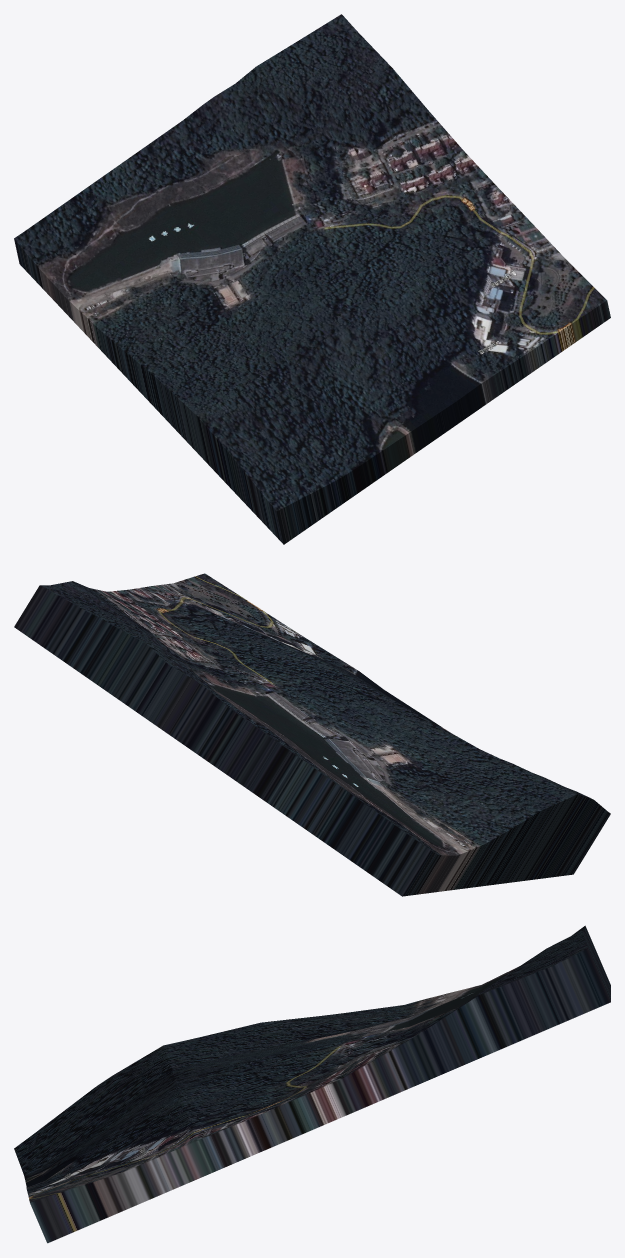
3 renders of one model, top to bottom at view 1: azimuth 30°, elevation 25°; view 2: azimuth 150°, elevation 25°; view 3: azimuth 270°, elevation 25°, orthographic. The views are drawn at different scales.
Parts seen in each view (by area): view 1: 0_0_14; view 2: 0_0_14; view 3: 0_0_14.
Part boxes in pixels (x1,y1,x2,y2): 0_0_14: (14, 14, 610, 544); 0_0_14: (14, 573, 610, 896); 0_0_14: (14, 925, 610, 1243).
Bounding box in the file's own units: 615 × 476 × 574.
Materials: 1 (1 with a texture image).
